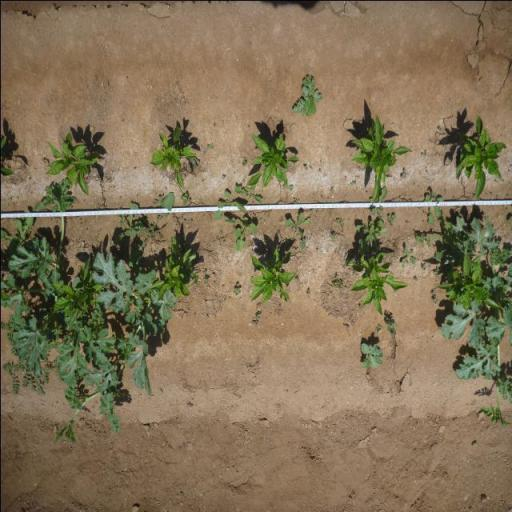plant: (345, 117, 411, 203), (452, 110, 506, 200), (45, 126, 102, 197), (346, 250, 408, 315), (244, 130, 300, 187), (149, 121, 195, 190), (434, 255, 492, 308), (246, 245, 294, 303), (156, 233, 197, 296), (51, 261, 93, 314)
weed: (0, 182, 176, 448), (431, 213, 512, 430), (127, 192, 176, 267), (417, 207, 454, 277), (290, 73, 323, 118), (0, 363, 42, 396), (223, 216, 258, 252), (110, 202, 136, 244), (354, 218, 386, 252), (284, 210, 310, 250), (0, 217, 35, 245), (212, 191, 245, 219), (358, 340, 384, 371), (370, 184, 388, 217), (232, 185, 262, 204), (420, 190, 432, 232), (400, 244, 416, 270), (383, 309, 396, 339), (430, 188, 444, 203), (180, 190, 190, 206), (151, 192, 162, 206), (386, 212, 397, 226), (329, 279, 343, 289), (430, 289, 438, 305), (232, 282, 241, 296), (189, 158, 199, 169), (400, 164, 406, 180), (280, 184, 294, 190), (290, 196, 300, 204), (374, 322, 382, 332), (241, 155, 247, 166), (333, 216, 341, 224), (418, 148, 426, 156), (252, 312, 262, 318), (330, 231, 335, 241), (349, 179, 356, 186), (206, 143, 214, 149), (302, 162, 308, 170), (202, 276, 208, 284), (420, 262, 426, 270), (436, 124, 442, 131), (294, 274, 299, 282), (306, 287, 310, 297), (413, 275, 417, 282)
